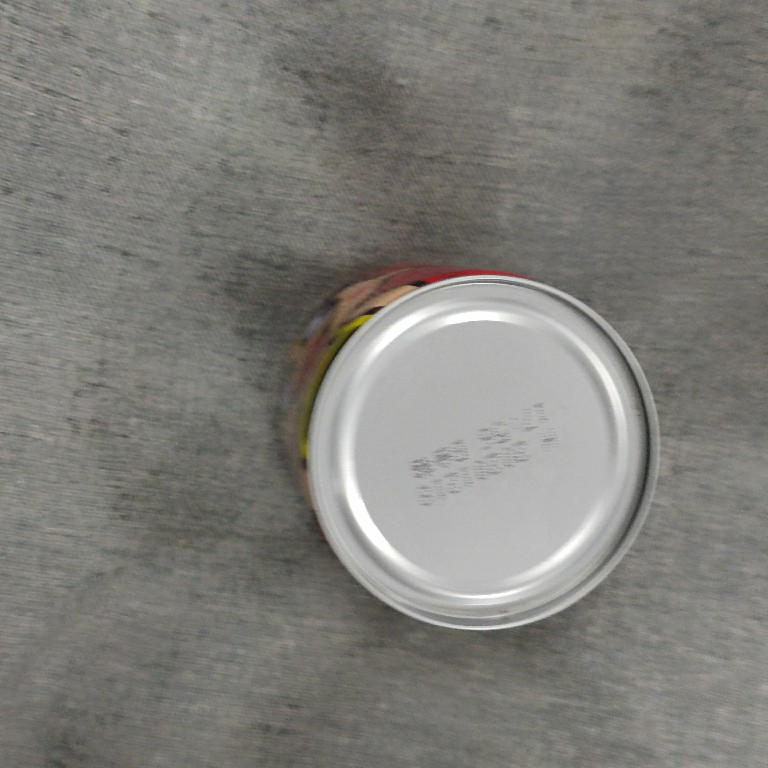can: (261, 255, 665, 639)
